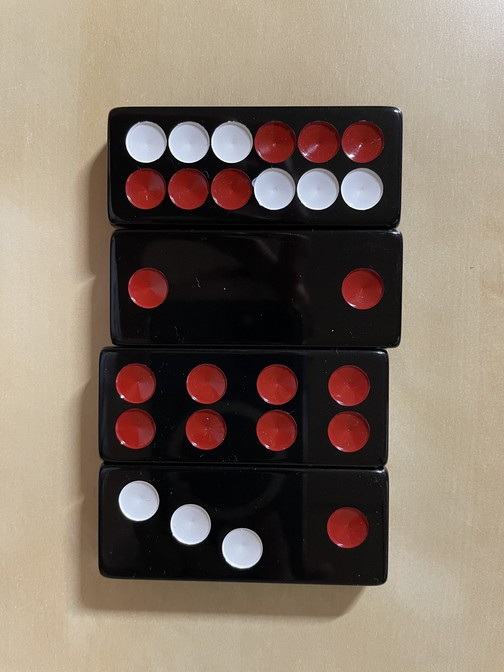earth: (111, 230, 403, 349)
goose: (98, 465, 388, 586)
heaven: (107, 109, 402, 227)
man: (101, 349, 389, 466)
